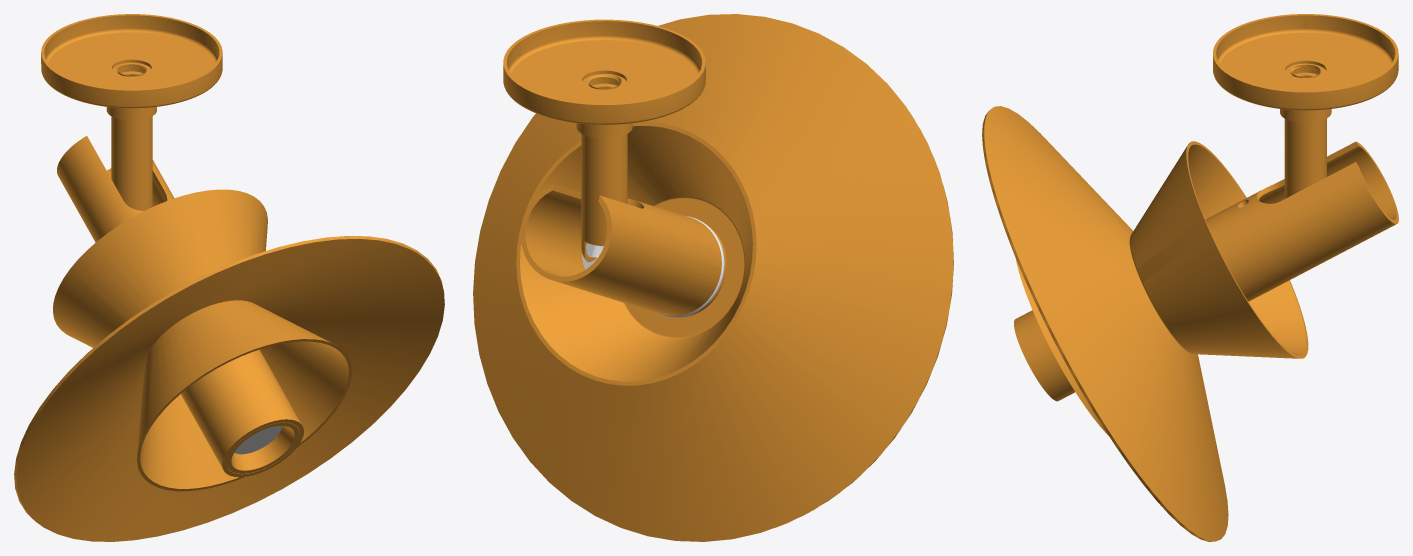
Rendered from ColibriPlafon.glb.
3 renders of one model, left to right at view 1: azimuth 30°, elevation 25°; view 2: azimuth 150°, elevation 25°; view 3: azimuth 270°, elevation 25°, orthographic. The views are drawn at different scales.
Parts seen in each view (by area): view 1: 3DGeom-14, 3DGeom-12 (×2), 3DGeom-2, 3DGeom-16, 3DGeom-3, 3DGeom-19, 3DGeom-1; view 2: 3DGeom-14, 3DGeom-12, 3DGeom-2, 3DGeom-16, 3DGeom-3, 3DGeom-19; view 3: 3DGeom-14, 3DGeom-12 (×2), 3DGeom-2, 3DGeom-16, 3DGeom-3, 3DGeom-19.
Boxes of the visible parts, bbox=[...] form: 3DGeom-14: bbox=[14, 236, 444, 541]; 3DGeom-12 (×2): bbox=[53, 189, 351, 491]; 3DGeom-2: bbox=[57, 136, 303, 477]; 3DGeom-16: bbox=[41, 14, 222, 108]; 3DGeom-3: bbox=[111, 116, 152, 210]; 3DGeom-19: bbox=[106, 62, 156, 120]; 3DGeom-1: bbox=[234, 426, 281, 454]; 3DGeom-14: bbox=[473, 14, 953, 541]; 3DGeom-12: bbox=[516, 122, 756, 385]; 3DGeom-2: bbox=[520, 184, 726, 317]; 3DGeom-16: bbox=[503, 19, 705, 124]; 3DGeom-3: bbox=[581, 134, 627, 262]; 3DGeom-19: bbox=[576, 73, 632, 138]; 3DGeom-14: bbox=[982, 106, 1228, 541]; 3DGeom-12 (×2): bbox=[1015, 141, 1308, 435]; 3DGeom-2: bbox=[1014, 141, 1398, 401]; 3DGeom-16: bbox=[1213, 14, 1398, 110]; 3DGeom-3: bbox=[1284, 118, 1326, 198]; 3DGeom-19: bbox=[1280, 63, 1331, 123].
Bounding box in the file's own units: 0.1499 × 0.1567 × 0.1279.
